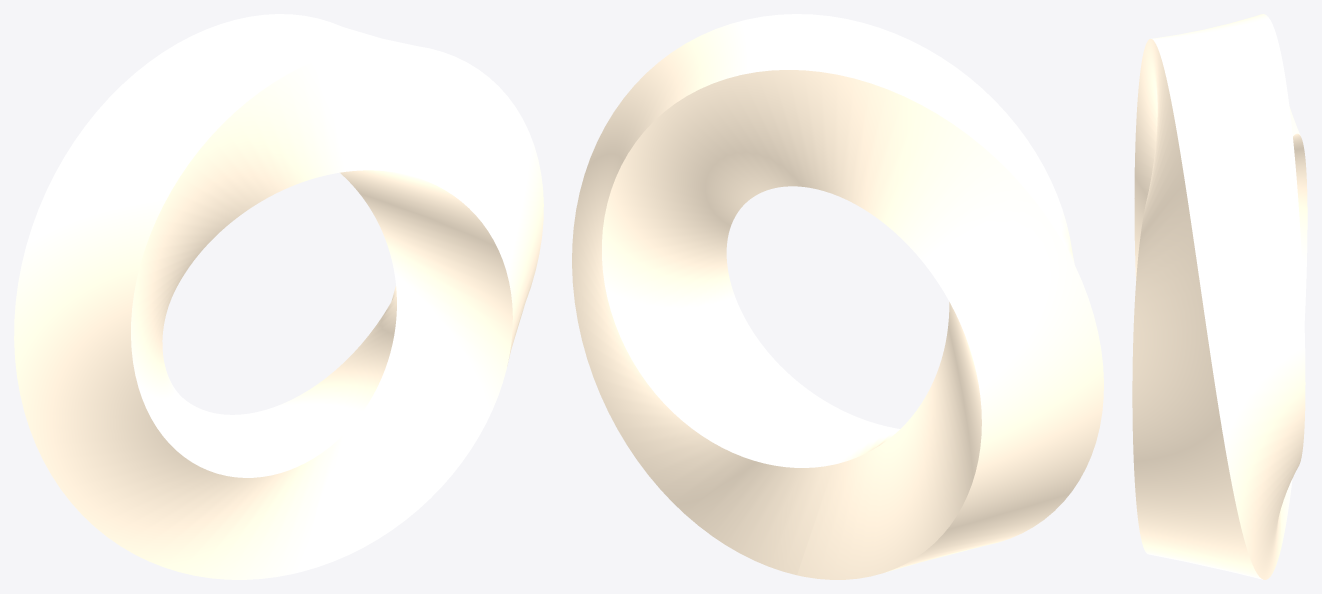
Rendered from mobius-3d617269.glb.
The picture shows the model from 3 angles, left to right: view 1: azimuth 30°, elevation 25°; view 2: azimuth 150°, elevation 25°; view 3: azimuth 270°, elevation 25°; orthographic projection. The views are drawn at different scales.
Visible parts, largest first — view 1: メビウスの柱; view 2: メビウスの柱; view 3: メビウスの柱.
Part boxes in pixels (bbox=[...]): メビウスの柱: bbox=[14, 14, 543, 579]; メビウスの柱: bbox=[572, 14, 1103, 579]; メビウスの柱: bbox=[1132, 14, 1307, 579].
Bounding box in the file's own units: 28.43 × 26.12 × 8.41.
